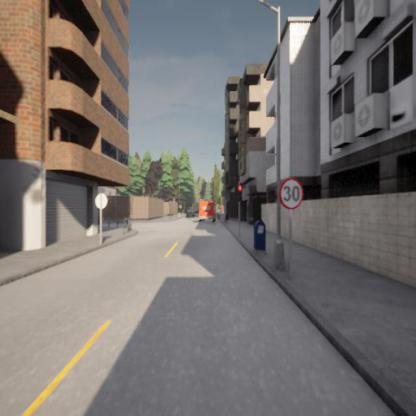traffic_sign_30: (280, 178, 304, 209)
vehicle: (198, 199, 216, 222)
